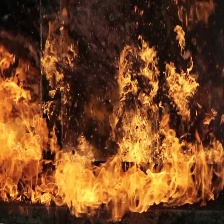fire: (2, 25, 223, 219)
